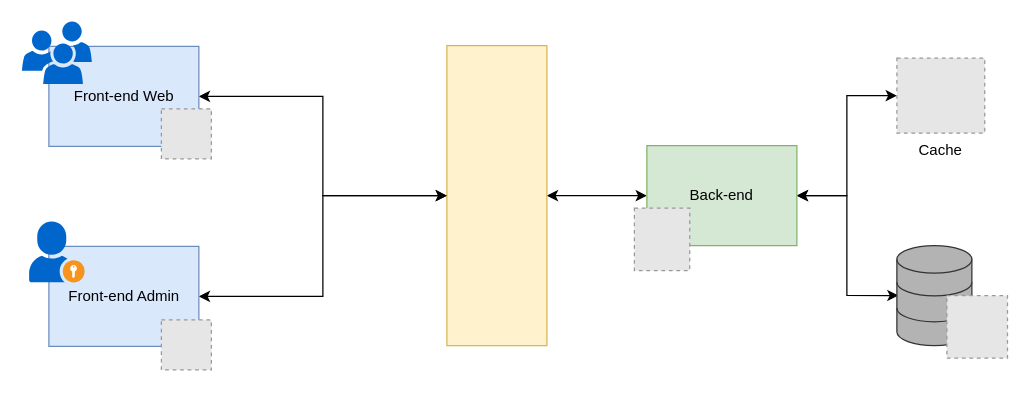
This 1029x394 diagram has some shape labels left out. Grey dashed boxes stand in for pictures. The shapes that lost their labels are listed below. From the top down, each one's centre as x and y in pixels, then its label:
At point 496,195: "Gateway".
At point 934,295: "Database".
